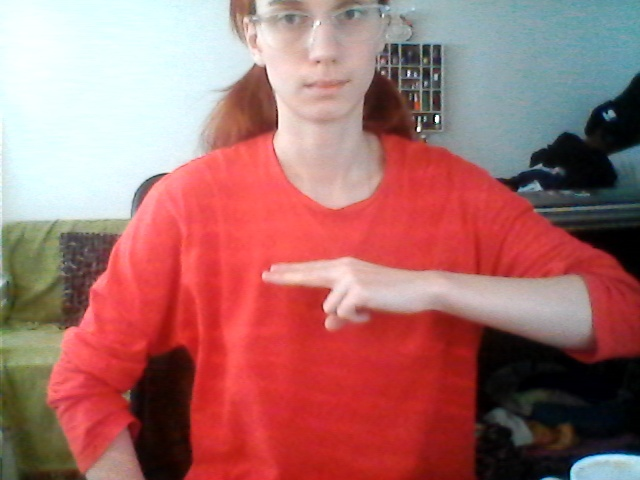frajer: (254, 240, 438, 348)
